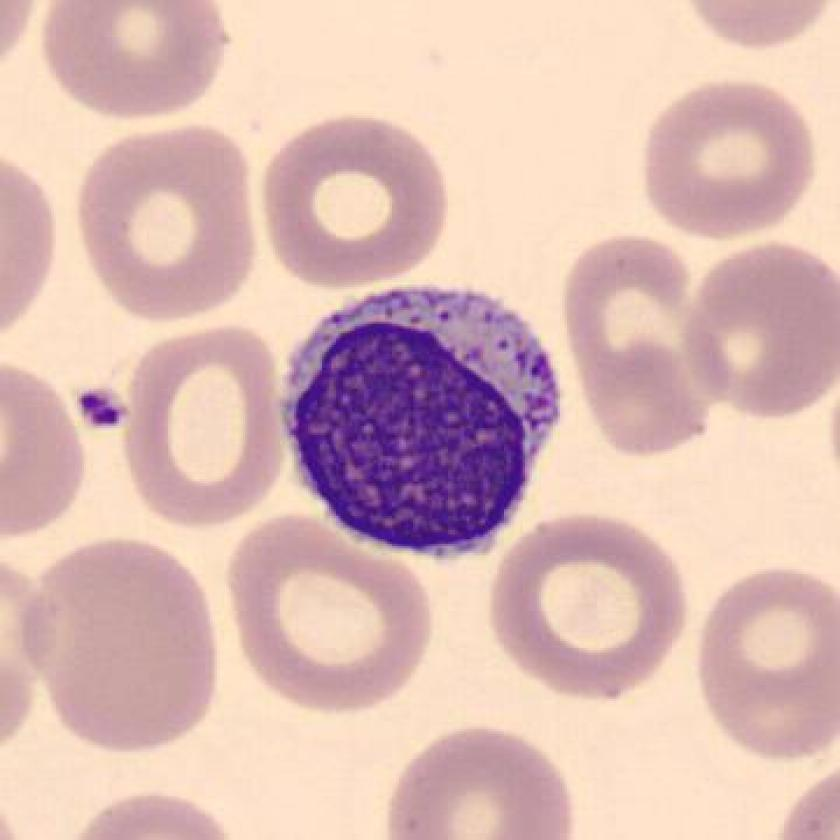lymphocyte: (269, 265, 582, 575)
